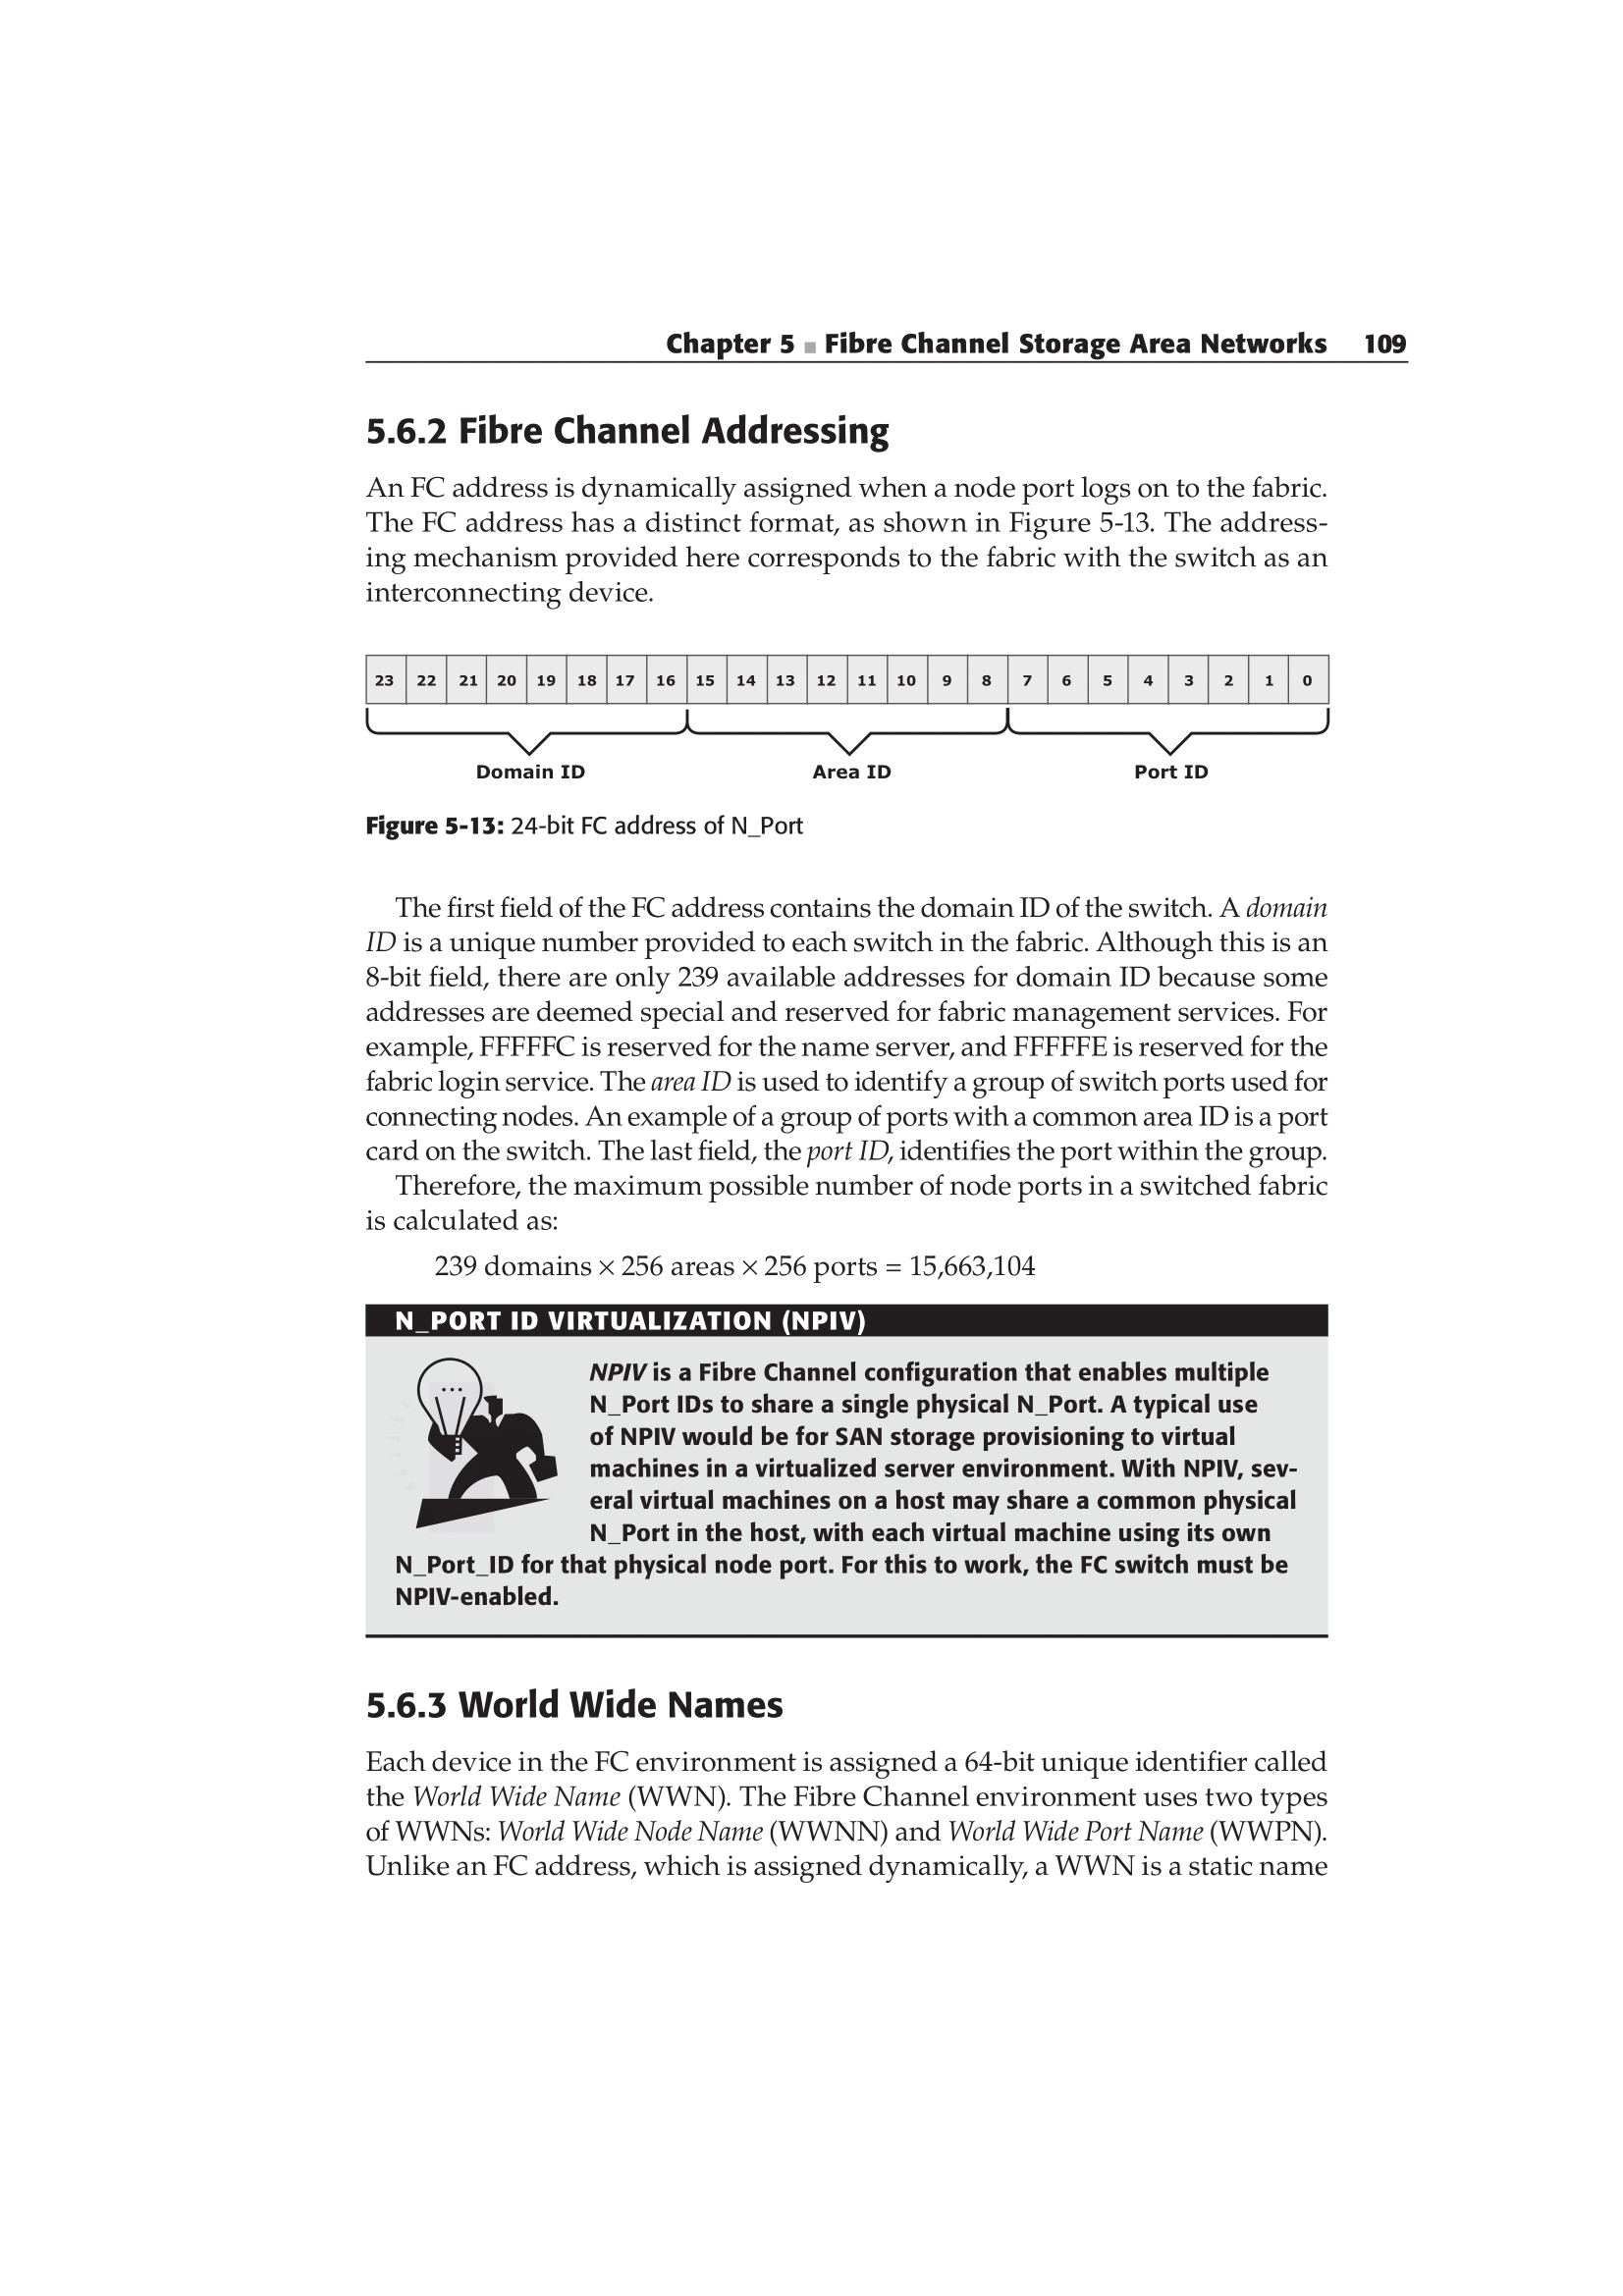Image: (343, 639, 1351, 804), (397, 1352, 576, 1534)
Paragraph: (360, 881, 1333, 1173), (351, 1743, 1356, 1908), (357, 465, 1351, 616), (571, 1355, 1305, 1548), (374, 1534, 1319, 1629), (360, 1173, 1333, 1246), (667, 305, 1453, 370), (328, 1657, 836, 1734), (351, 402, 899, 462), (416, 1241, 1045, 1287), (351, 813, 845, 862), (374, 1306, 871, 1338)
